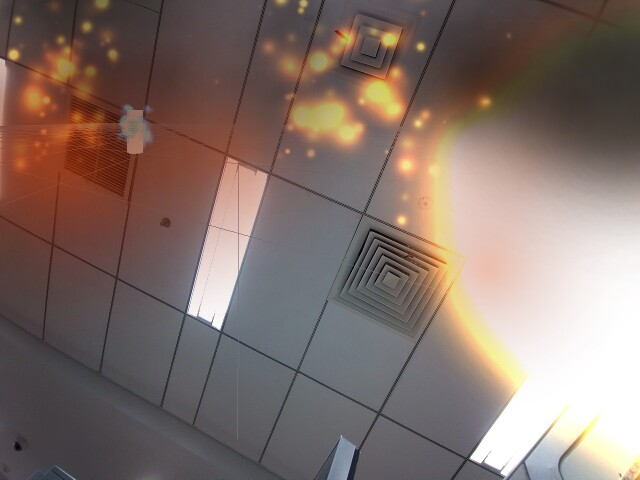fire: (436, 13, 634, 465)
